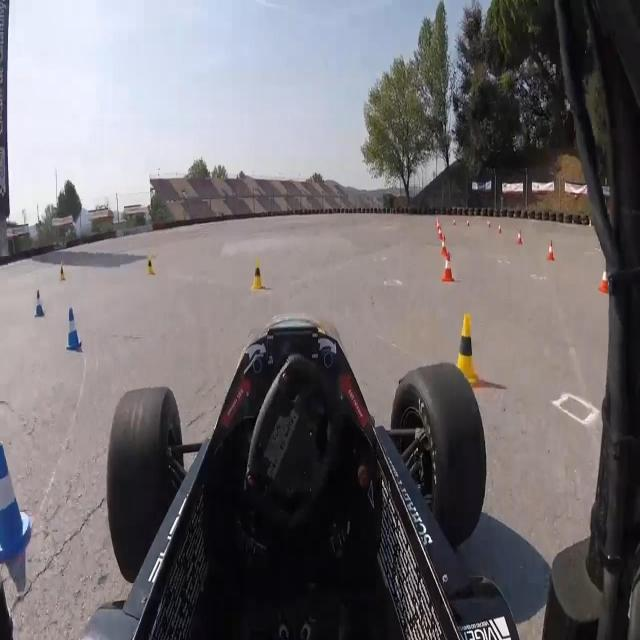blue_cone: (0, 442, 35, 562), (66, 306, 82, 351), (34, 288, 44, 317)
orange_cone: (442, 252, 455, 283), (598, 264, 610, 294), (548, 238, 554, 260), (442, 235, 448, 255), (517, 228, 523, 245), (438, 225, 442, 239)
yellow_cone: (451, 312, 479, 388), (251, 259, 265, 289), (147, 254, 154, 275), (59, 261, 66, 280)
